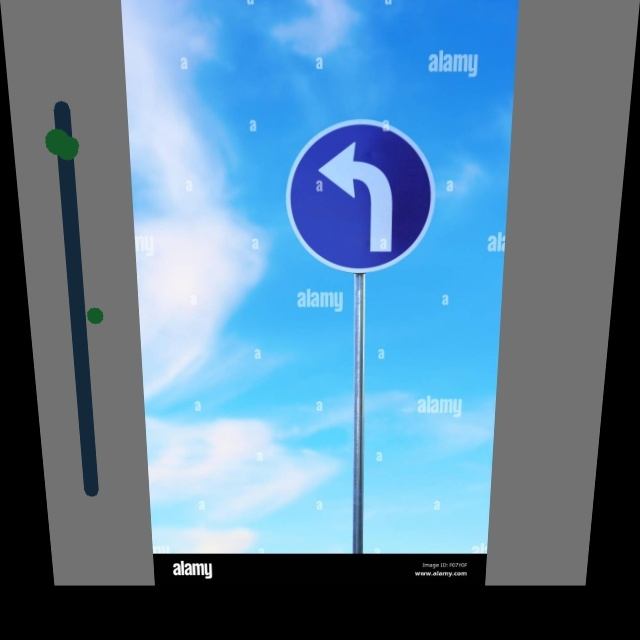Compulsory_Turn_Left_Ahead: (291, 118, 434, 277)
